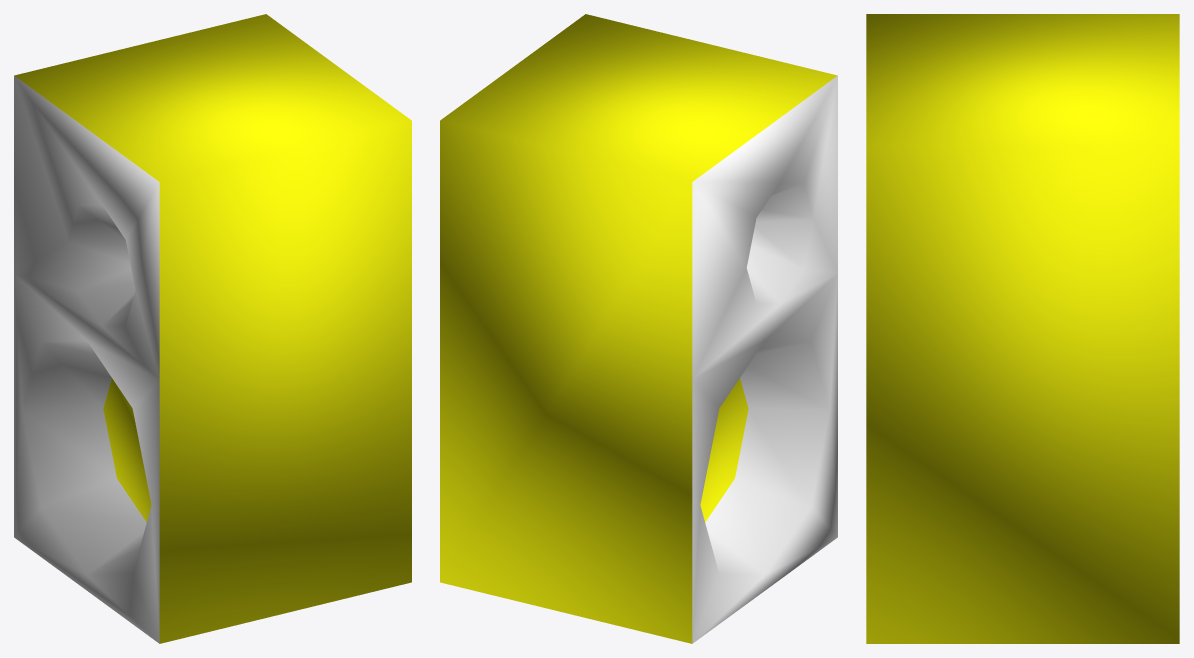
The model's file is INVISIBLE_ZCVOBSOUND.glb.
3 views of the same model, side by side, from view 1: azimuth 30°, elevation 25°; view 2: azimuth 150°, elevation 25°; view 3: azimuth 270°, elevation 25° (orthographic). The views are drawn at different scales.
Parts seen in each view (by area): view 1: Mesh; view 2: Mesh; view 3: Mesh.
Part boxes in pixels (x1,y1,x2,y2): Mesh: [14, 14, 411, 643]; Mesh: [440, 14, 837, 643]; Mesh: [866, 14, 1179, 643].
Bounding box in the file's own units: 0.4 × 0.7 × 0.4.
